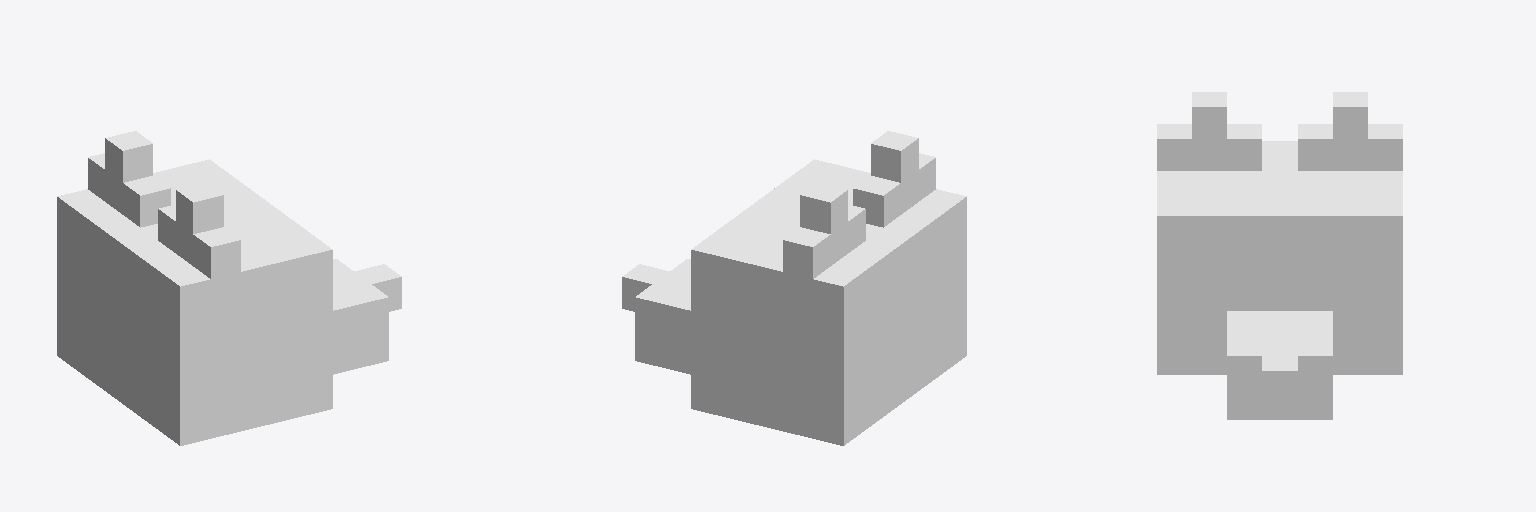
File: Animals-18.obj
3 views of the same model, side by side, from view 1: azimuth 30°, elevation 25°; view 2: azimuth 150°, elevation 25°; view 3: azimuth 270°, elevation 25° (orthographic).
Parts seen in each view (by area): view 1: object 1; view 2: object 1; view 3: object 1.
Boxes of the visible parts, <box> form: object 1: <box>57,131,401,445</box>; object 1: <box>622,131,966,445</box>; object 1: <box>1157,92,1402,419</box>.
Bounding box in the file's own units: 0.9 × 0.7 × 0.7.